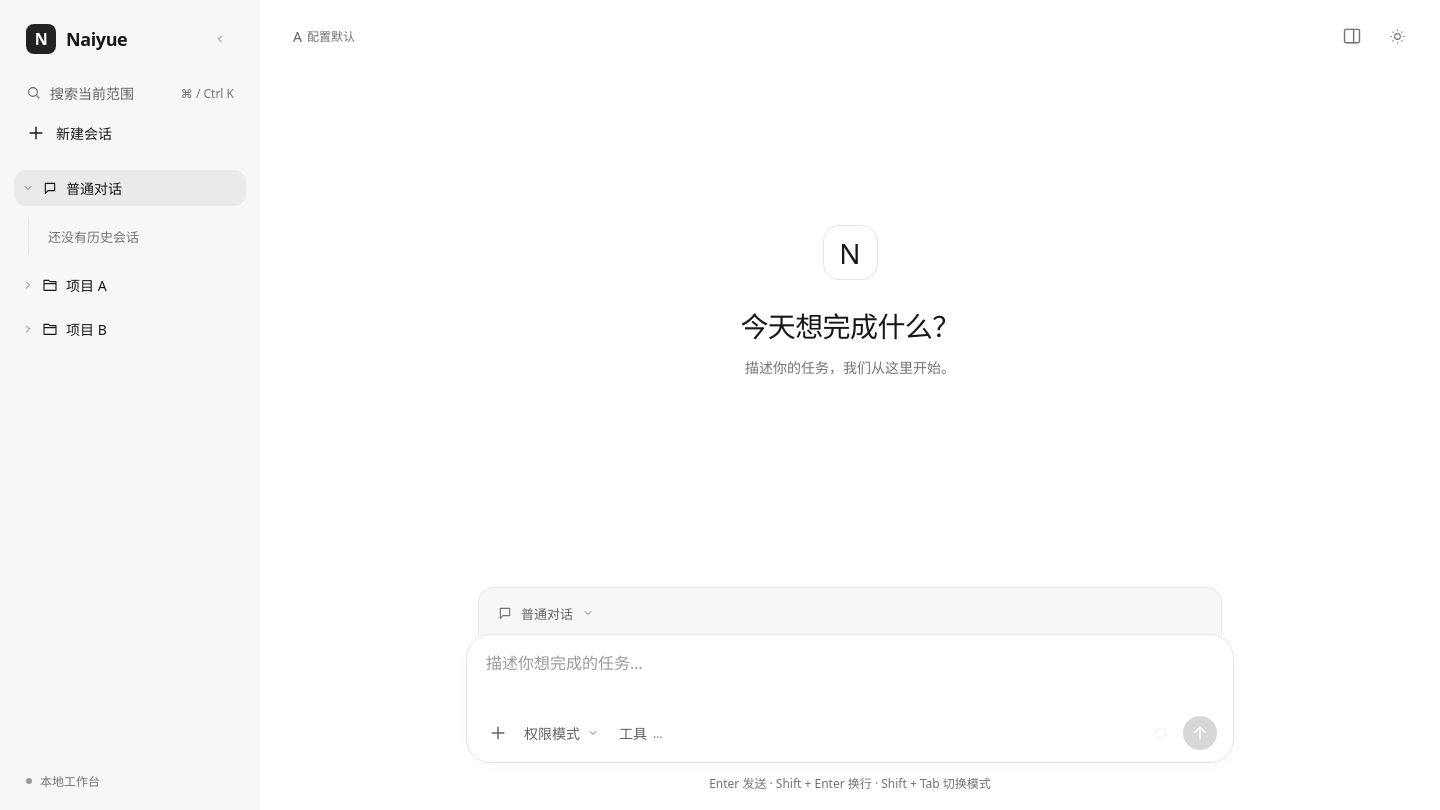
Test: clicking the current project name folds and reopens its sessions without changing selection
This screenshot has width=1440, height=810.
Step 1. Click the button with aria-label "进入项目 A" → x=144, y=285, box [42, 267, 246, 303]
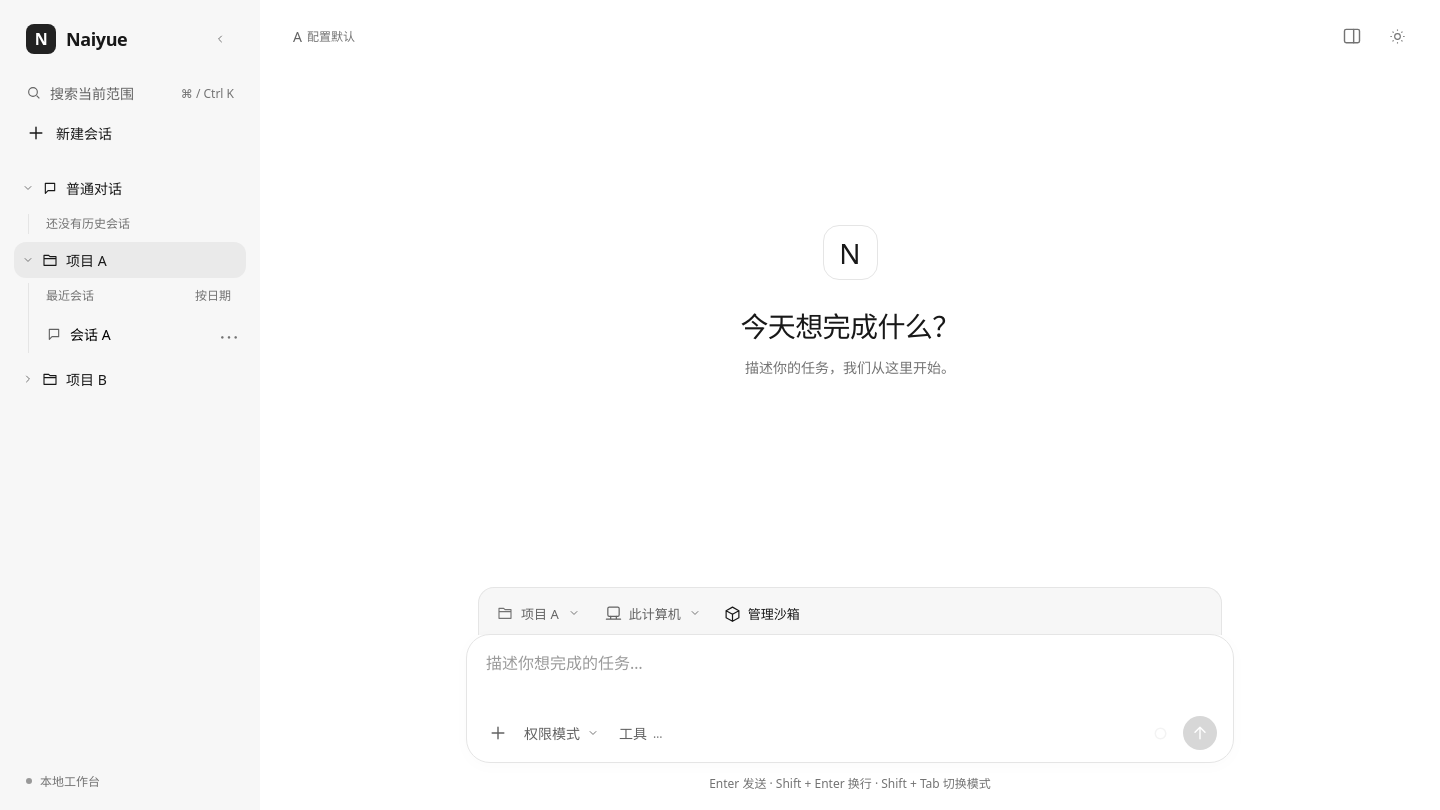
Step 2. Click the button with aria-label "会话 A A" → x=140, y=334, box [34, 315, 246, 353]
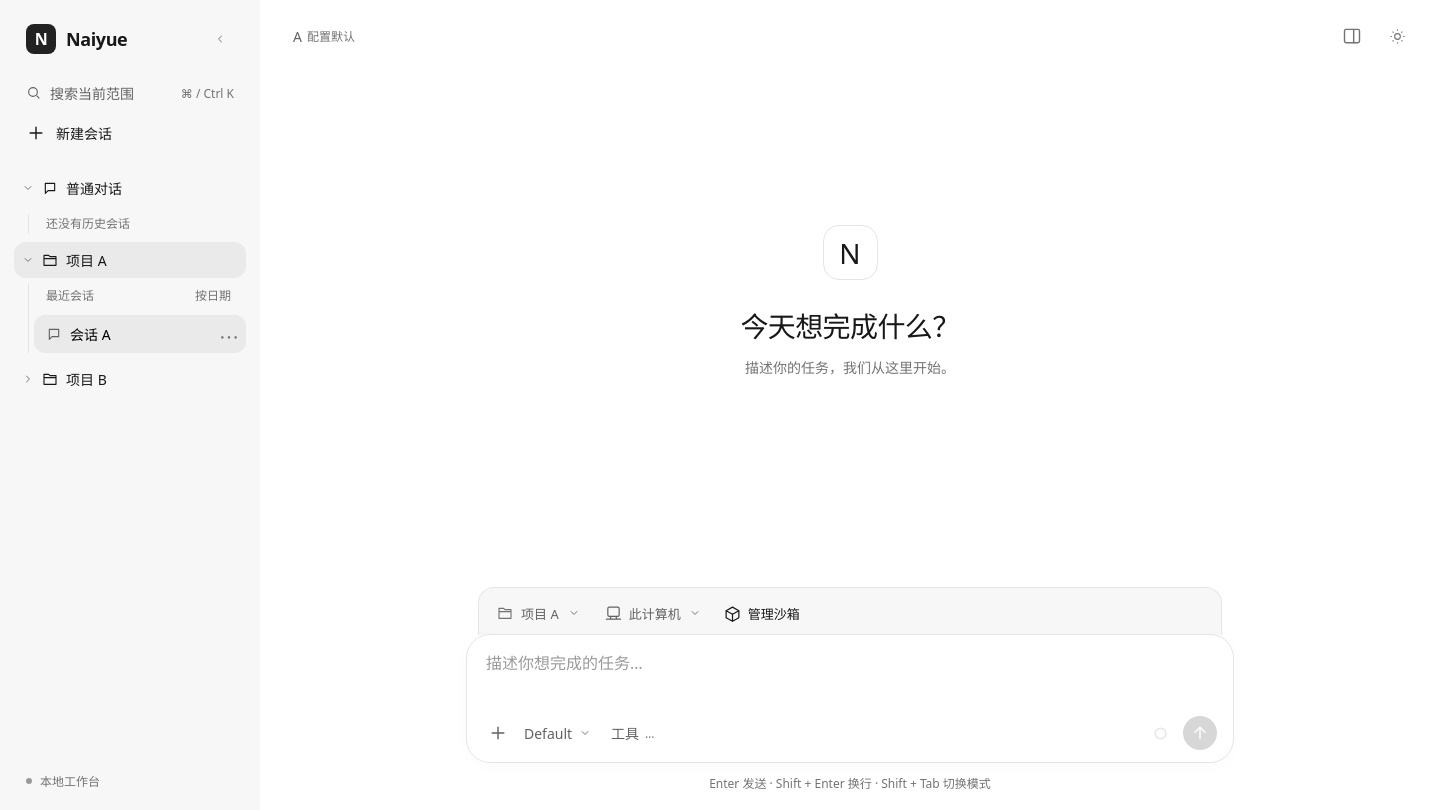
Step 3. Click the button with aria-label "进入项目 A" → x=144, y=260, box [42, 242, 246, 278]
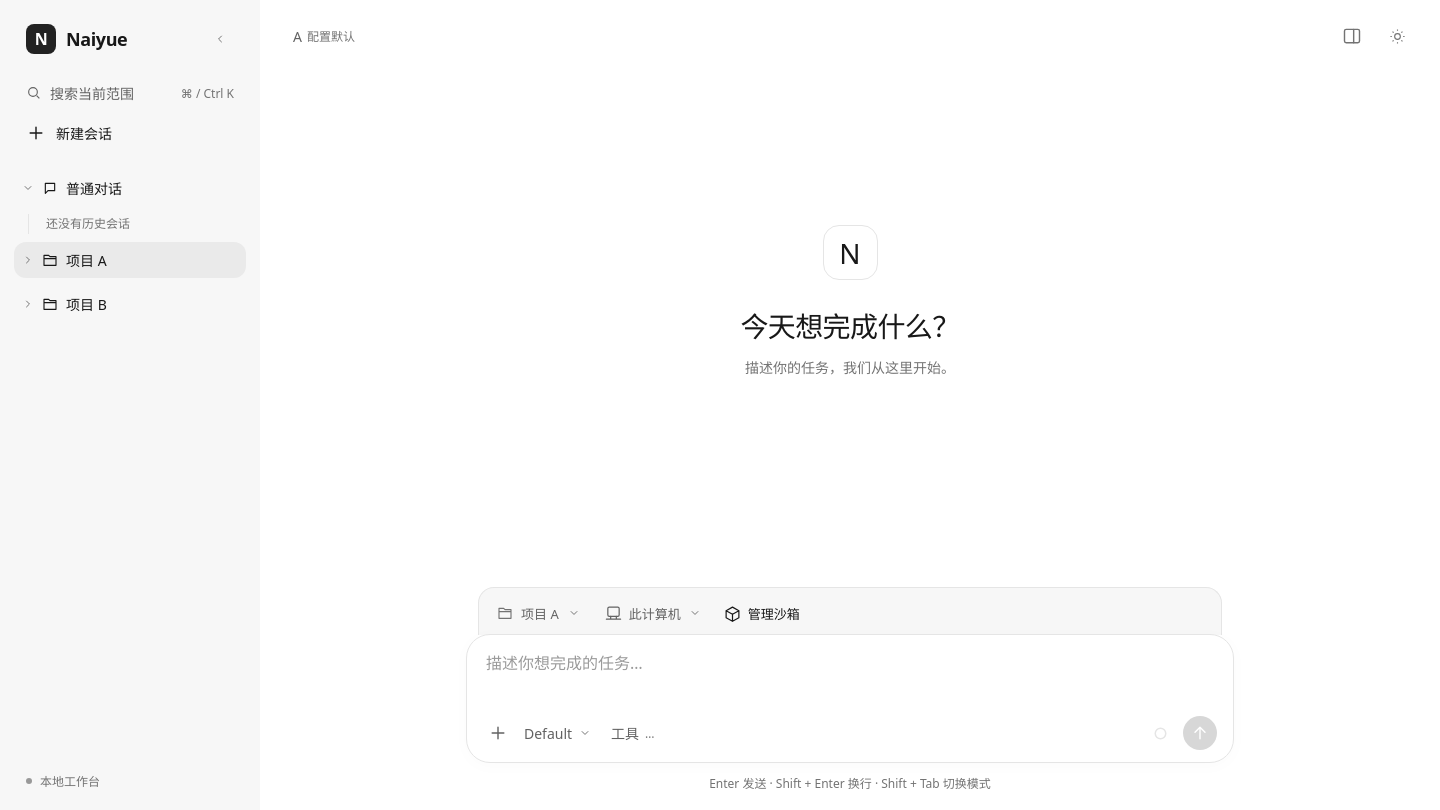
Result: the message named "当前项目" reads "项目 A" at [489, 596, 589, 630]
Step 4. Click the button with aria-label "进入项目 A" → x=144, y=260, box [42, 242, 246, 278]
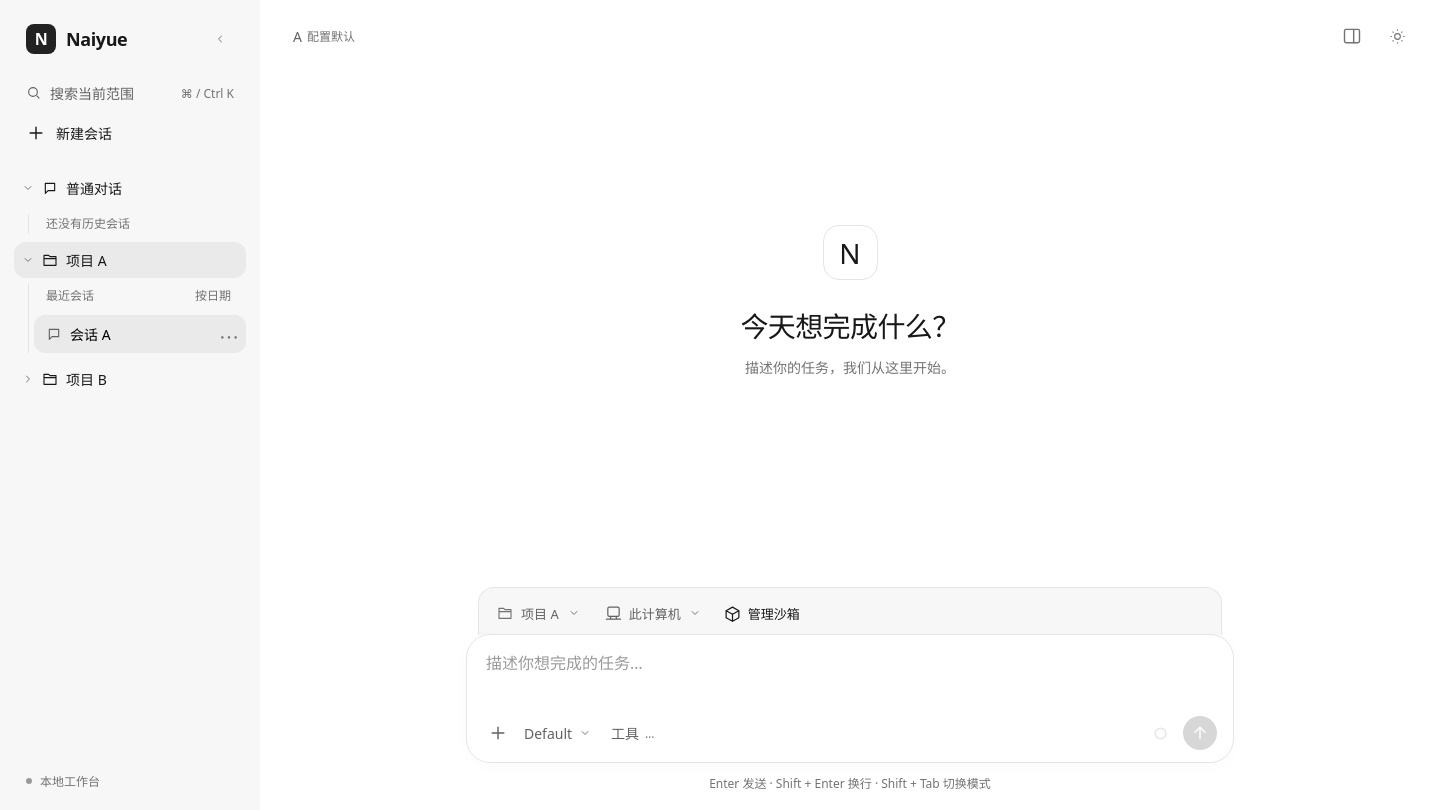
Result: the button with aria-label "会话 A A" is shown at [34, 315, 246, 353]
